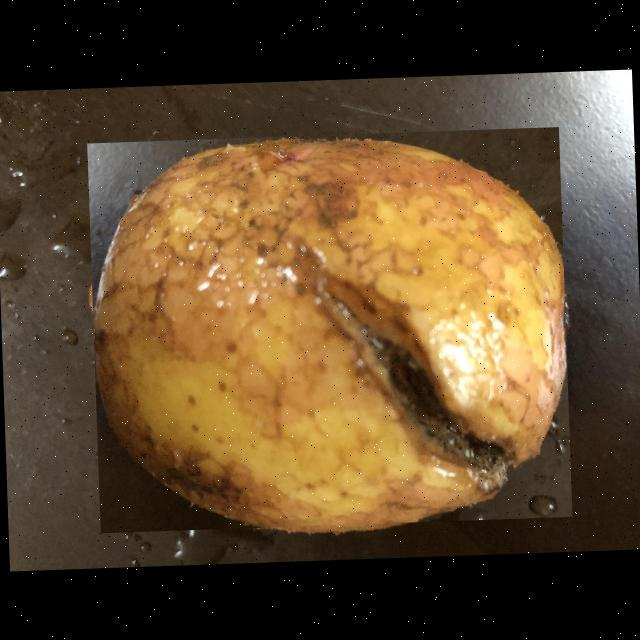Damaged potato: (86, 127, 571, 532)
